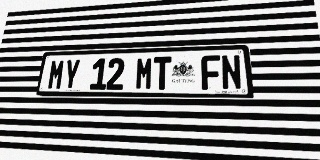1: (90, 58, 108, 90)
2: (106, 58, 125, 90)
F: (201, 55, 221, 90)
M: (135, 57, 153, 90), (47, 59, 66, 90)
N: (221, 55, 242, 90)
T: (153, 56, 171, 90)
Y: (62, 59, 81, 90)
